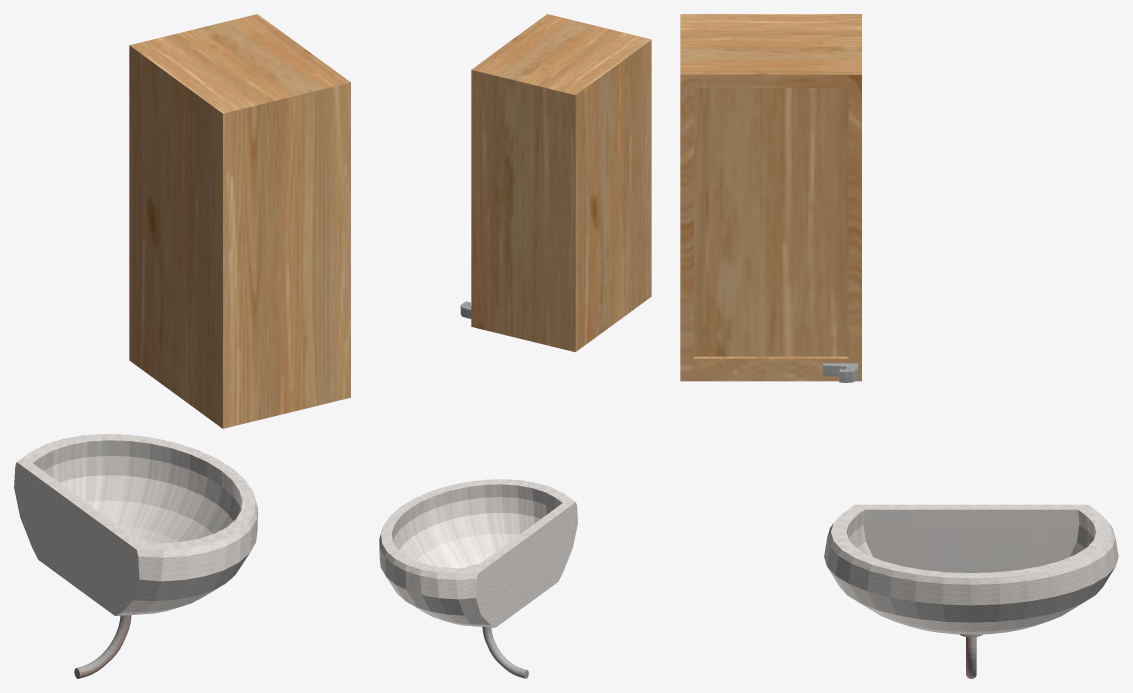
The model's file is armario_banheiro.fbx.
3 renders of one model, left to right at view 1: azimuth 30°, elevation 25°; view 2: azimuth 150°, elevation 25°; view 3: azimuth 270°, elevation 25°, orthographic. The views are drawn at different scales.
Parts seen in each view (by area): view 1: ARMARIO, pia, cano; view 2: ARMARIO, pia, cano; view 3: ARMARIO, pia.
Boxes of the visible parts, bbox=[...] form: ARMARIO: bbox=[129, 14, 350, 428]; pia: bbox=[14, 434, 257, 615]; cano: bbox=[74, 615, 131, 678]; ARMARIO: bbox=[471, 14, 651, 352]; pia: bbox=[379, 479, 577, 627]; cano: bbox=[482, 627, 528, 678]; ARMARIO: bbox=[680, 14, 861, 381]; pia: bbox=[824, 504, 1118, 634].
Size of the model in its own units: 198 by 797 by 482.
Materials: 4 (4 with a texture image).
